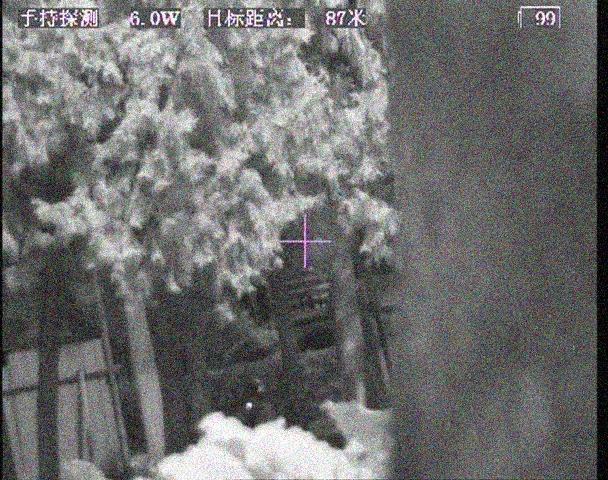my: (245, 399, 254, 410)
